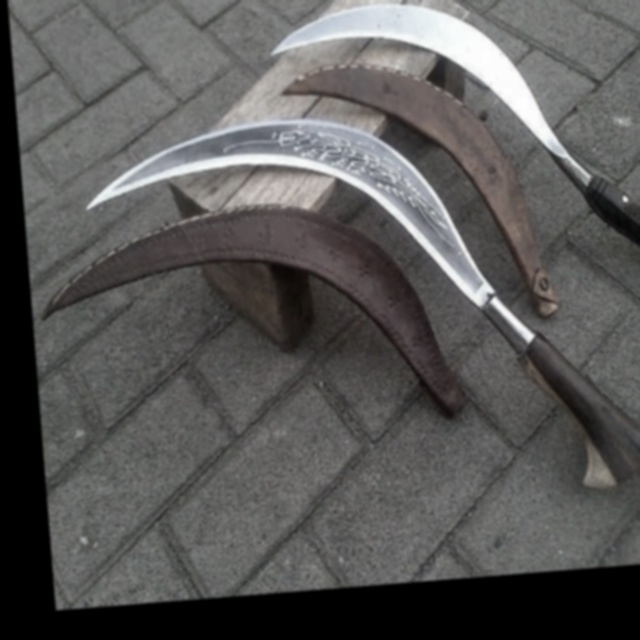Sharp-Object: (75, 84, 640, 528), (260, 0, 640, 308)
